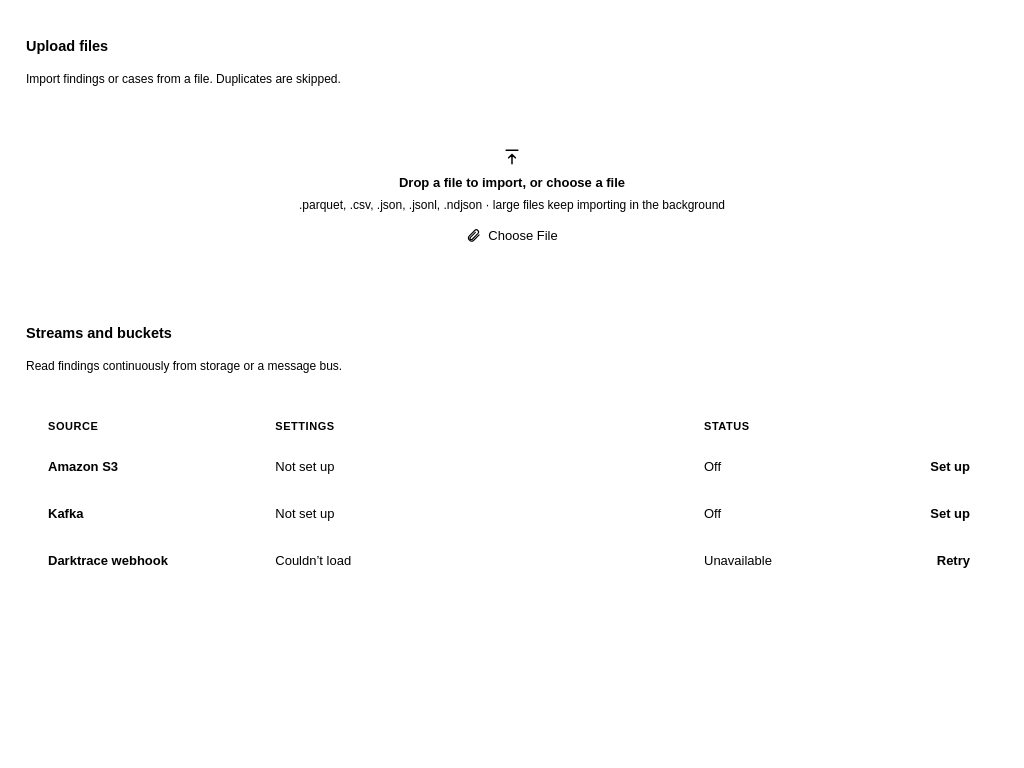
Test: streams and buckets › Retry reloads that source and shows the real config once the API answers
Click the button with aria-label "Retry Darktrace webhook" at (953, 560), box [931,549,976,572]
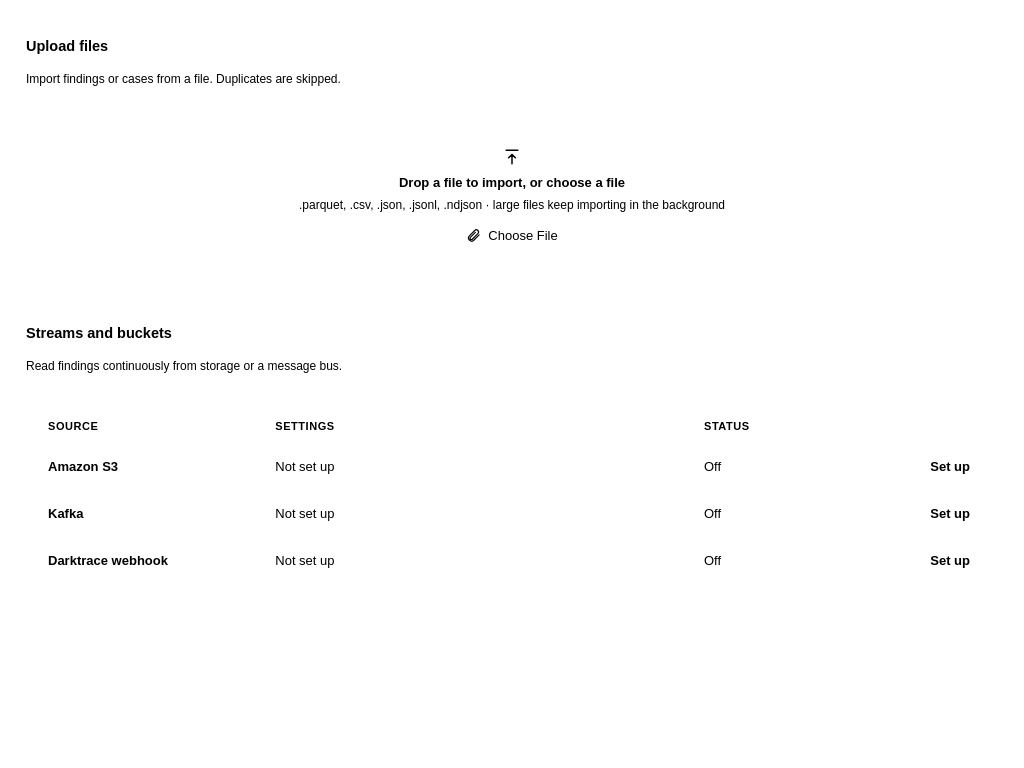
Check: the button with aria-label "Set up Darktrace webhook" is shown, box [924,549,976,572]
Check: the text "Not set up" next to "Darktrace webhook" is shown, box [275,553,335,568]
